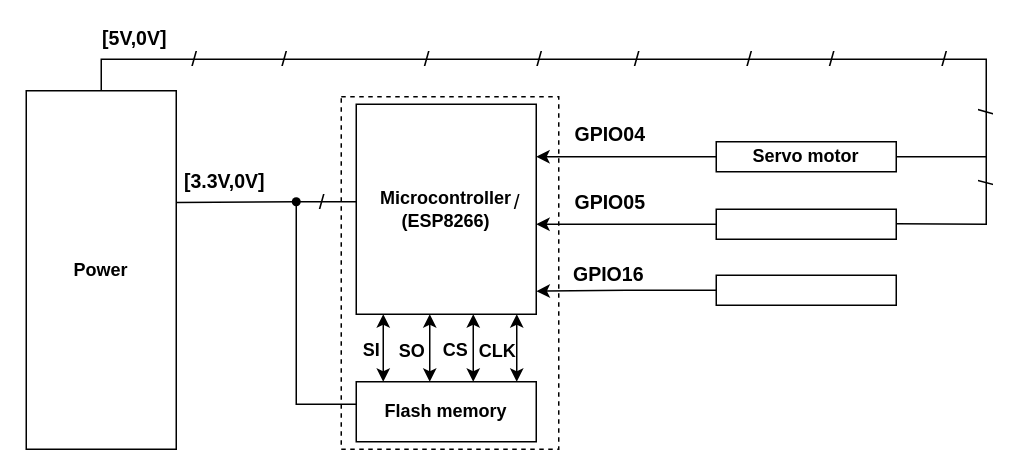
Some shapes in this 1032 by 476 pixel diagram are drawn without their labels. The box of each missing label's shape, as (x1, y1, x2, y2) in pixels:
Button: (715, 274, 896, 305)
IR Sensor: (715, 208, 896, 239)
